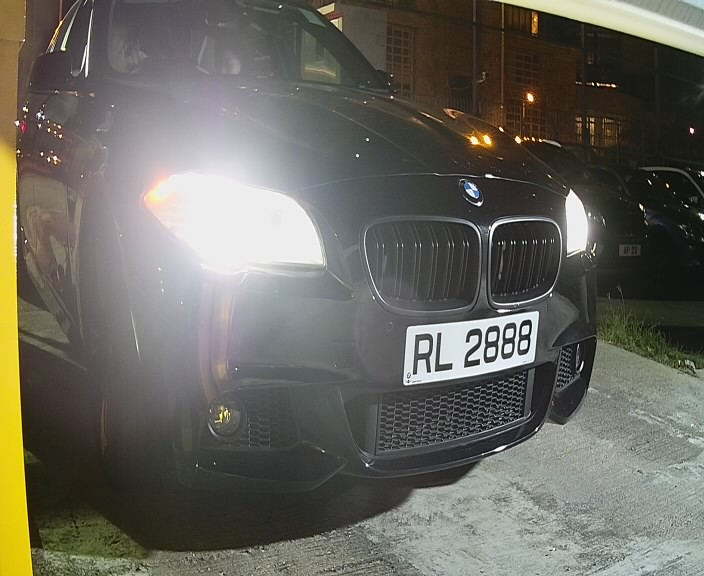License Plate: (396, 306, 545, 390)
